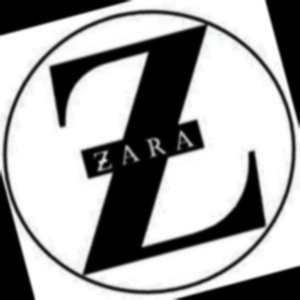zara: (156, 61, 242, 184)
